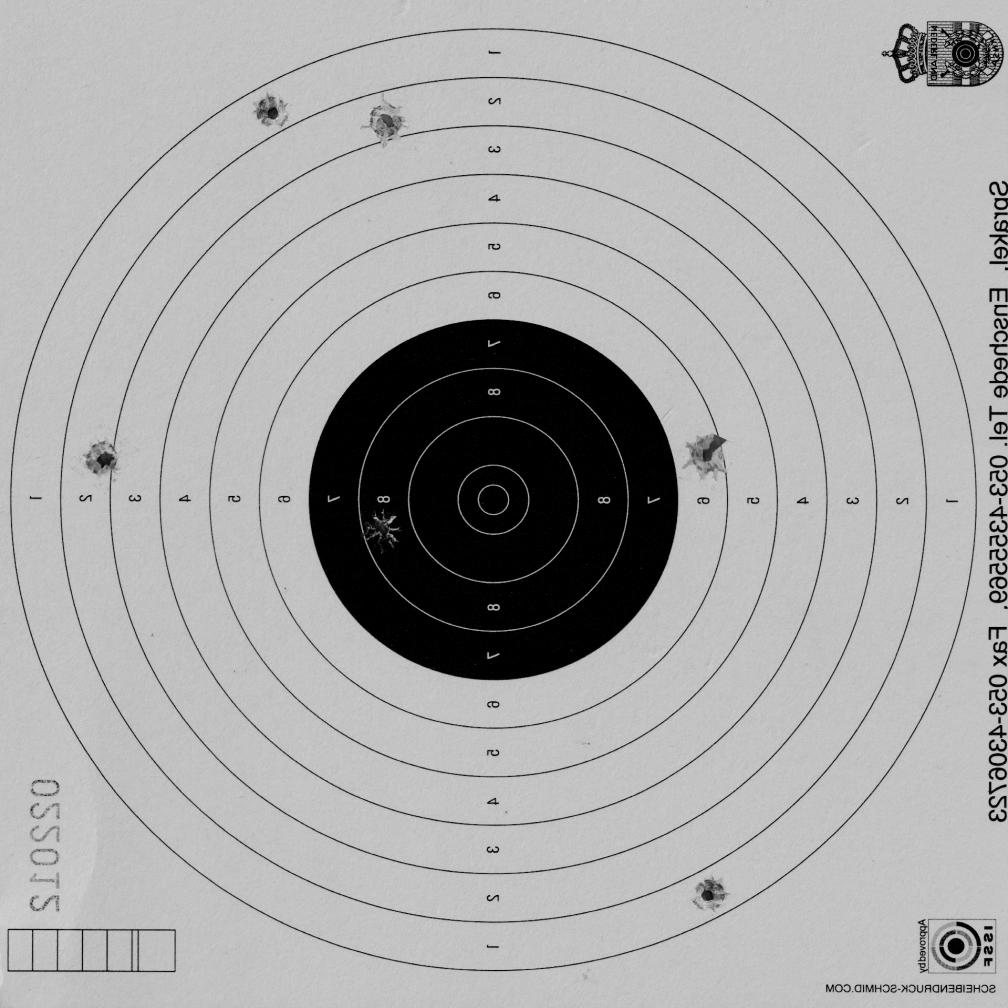1: (252, 92, 290, 129), (692, 878, 734, 908)
3: (360, 101, 405, 142), (79, 435, 121, 478)
6: (683, 435, 727, 479)
8: (367, 514, 402, 552)
Target: (7, 22, 982, 974)
black_contour: (310, 320, 679, 682)
